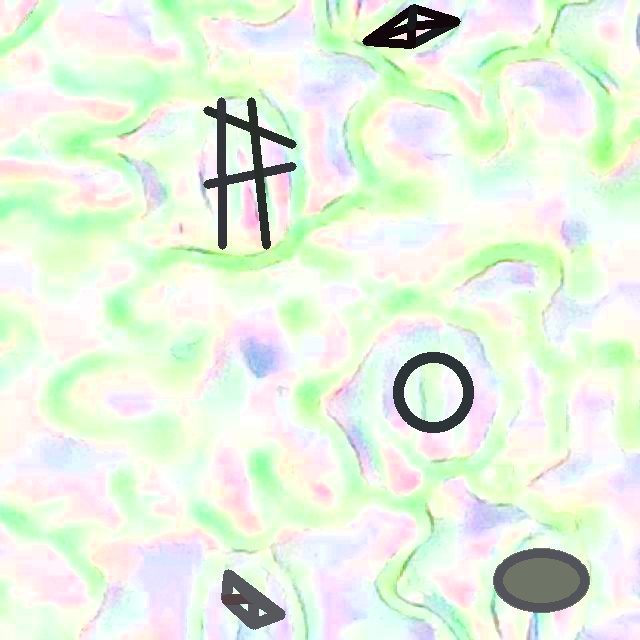close: (493, 548, 589, 613)
open: (203, 97, 296, 249), (392, 352, 474, 433), (362, 4, 460, 47), (222, 569, 284, 628)
